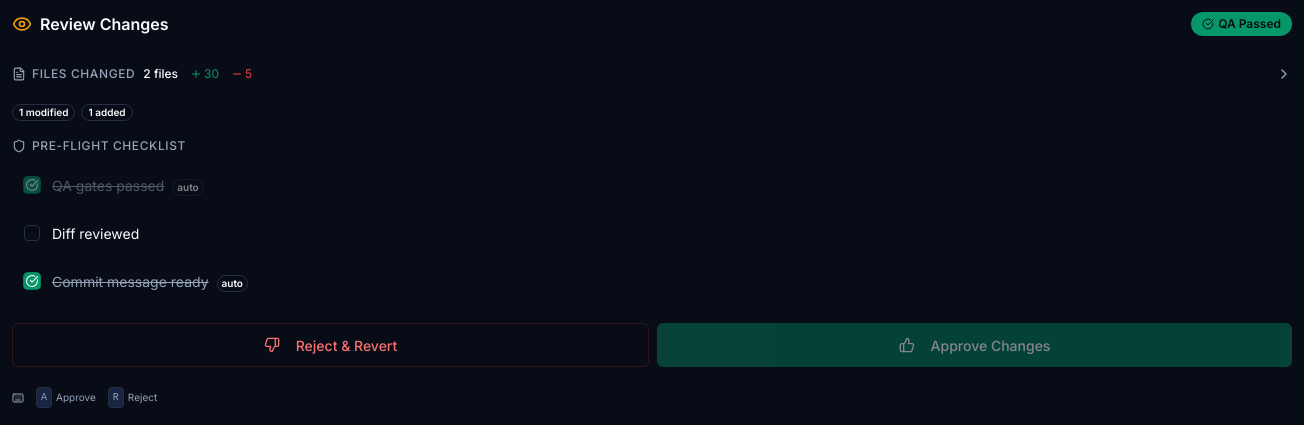
Test case: ApprovalPanel › should enable approve button after completing the checklist
# Check the "Diff reviewed" item
Click the checkbox "Diff reviewed": (96, 234) [12, 211, 1292, 255]
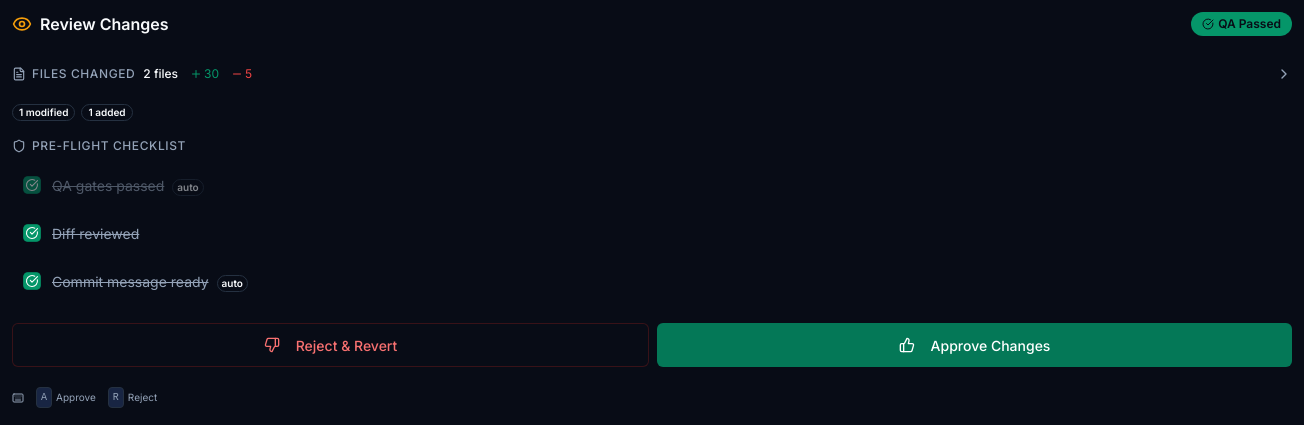
Check: the button "Approve Changes" is enabled, box [657, 323, 1292, 367]
